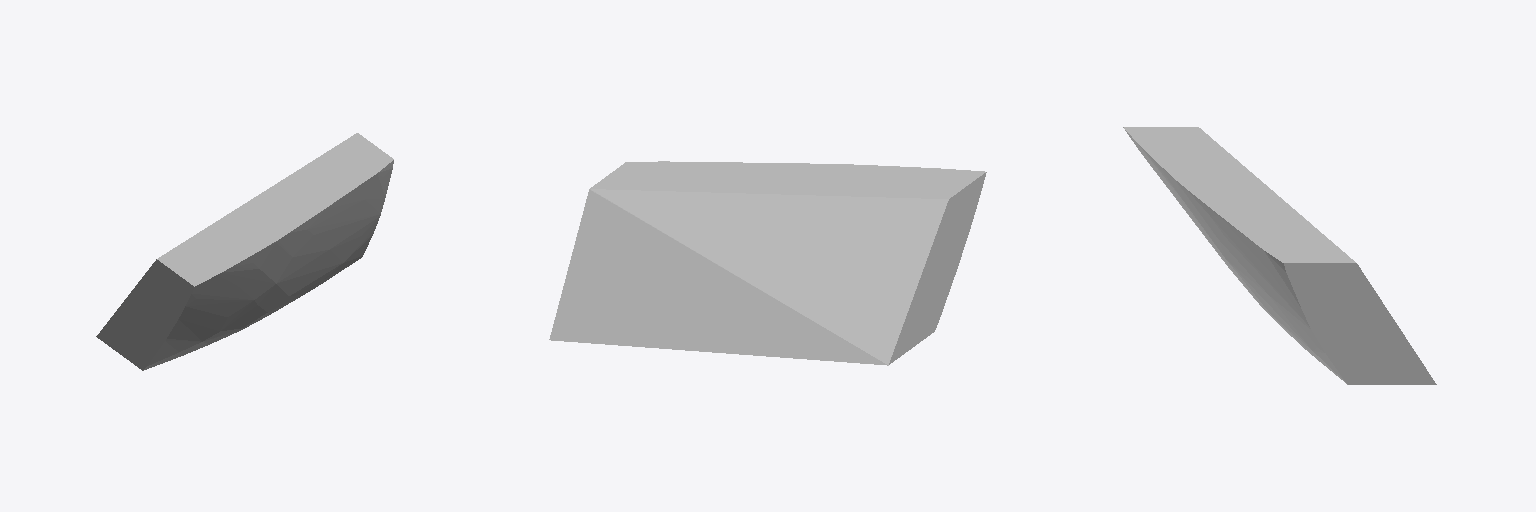
File: phantom-elastrat_collision_538.obj
3 renders of one model, left to right at view 1: azimuth 30°, elevation 25°; view 2: azimuth 150°, elevation 25°; view 3: azimuth 270°, elevation 25°, orthographic.
Size of the model in its own units: 0.0087 by 0.0036 by 0.0084.